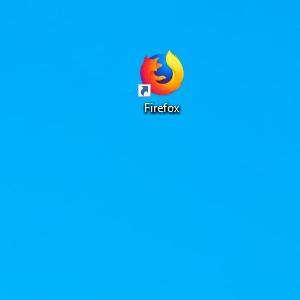firefox: (137, 49, 184, 97)
